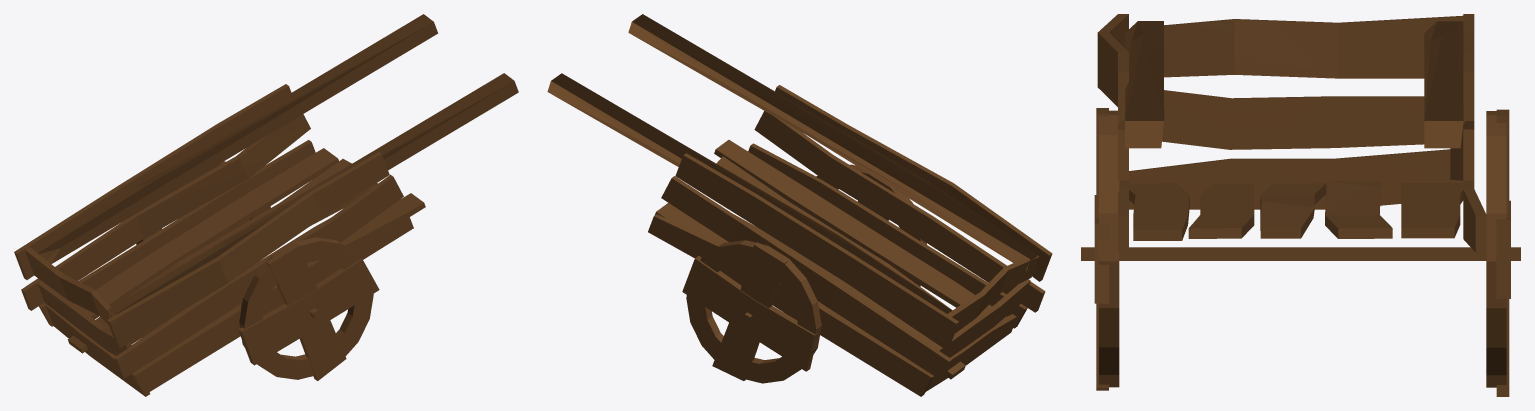
File: SM_cart.fbx
3 views of the same model, side by side, from view 1: azimuth 30°, elevation 25°; view 2: azimuth 150°, elevation 25°; view 3: azimuth 270°, elevation 25° (orthographic). The views are drawn at different scales.
Visible parts, largest first — view 1: Box017; view 2: Box017; view 3: Box017.
Boxes of the visible parts, bbox=[...] form: Box017: bbox=[14, 14, 518, 396]; Box017: bbox=[547, 14, 1052, 396]; Box017: bbox=[1081, 14, 1520, 396].
Bounding box in the file's own units: 119 × 67.87 × 59.43.
